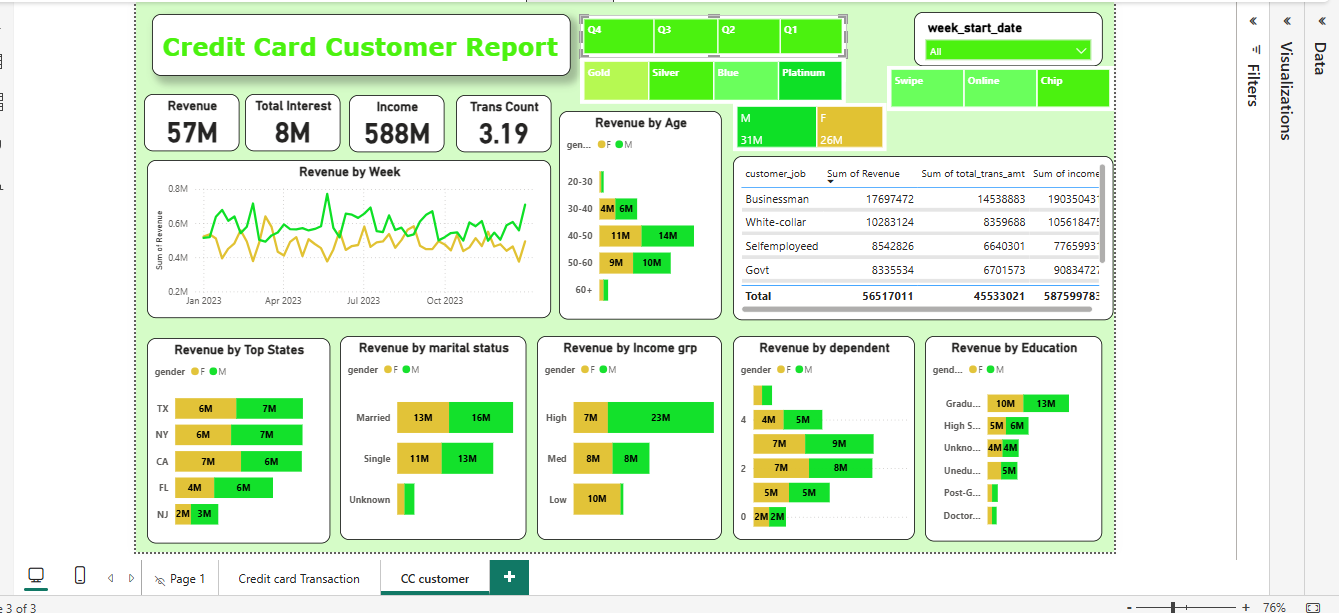

The dashboard page shown, as its layout file describes it:
{"tool":"powerbi","page":{"name":"CC customer","canvas":[1280,720],"ordinal":2},"visuals":[{"type":"textbox","box":[20.6,16.2,548.1,80.8],"z":0},{"type":"barChart","title":"Revenue by Income grp","fields":{"Y":["Sum(public cc_detail.Revenue)"],"Category":["public cust_detail.IncomeGroup"],"Series":["public cust_detail.gender"]},"box":[524.6,437.9,242.4,267.4],"z":1000},{"type":"tableEx","fields":{"Values":["public cust_detail.customer_job","Sum(public cc_detail.Revenue)","Sum(public cc_detail.total_trans_amt)","Sum(public cust_detail.income)"]},"box":[781.7,201.3,498.1,214.5],"z":2000},{"type":"card","title":"Revenue","fields":{"Values":["Sum(public cc_detail.Revenue)"]},"box":[10.3,120.5,124.9,74.9],"z":3000},{"type":"card","title":"Income","fields":{"Values":["Sum(public cust_detail.income)"]},"box":[279.2,122,124.9,74.9],"z":4000},{"type":"card","title":"Total Interest","fields":{"Values":["Sum(public cc_detail.interest_earned)"]},"box":[142.5,120.5,124.9,74.9],"z":5000},{"type":"card","title":"Trans Count","fields":{"Values":["Avg(public cust_detail.cust_satisfaction_score)"]},"box":[418.8,122,124.9,74.9],"z":6000},{"type":"treemap","fields":{"Group":["public cc_detail.qtr"],"Values":["Avg(public cc_detail.client_num)"]},"box":[581.9,17.6,348.2,55.8],"z":7000},{"type":"slicer","fields":{"Values":["public cc_detail.week_start_date"]},"box":[1018.3,13.2,246.9,70.5],"z":8000},{"type":"treemap","fields":{"Group":["public cc_detail.card_category"],"Values":["Avg(public cc_detail.client_num)"]},"box":[581.9,73.5,348.2,60.2],"z":9000},{"type":"lineChart","title":"Revenue by Week","fields":{"Y":["Sum(public cc_detail.Revenue)"],"Category":["public cc_detail.week_start_date.Variation.Date Hierarchy.Year","public cc_detail.week_start_date.Variation.Date Hierarchy.Quarter","public cc_detail.week_start_date.Variation.Date Hierarchy.Month","public cc_detail.week_start_date.Variation.Date Hierarchy.Day"],"Series":["public cust_detail.gender"]},"box":[14.7,207.2,529,207.2],"z":10000},{"type":"treemap","fields":{"Group":["public cust_detail.gender"],"Values":["Sum(public cc_detail.Revenue)"]},"box":[781.7,132.2,201.3,63.2],"z":11000},{"type":"barChart","title":"Revenue by Age","fields":{"Y":["Sum(public cc_detail.Revenue)"],"Category":["public cust_detail.Agegroup"],"Series":["public cust_detail.gender"]},"box":[554,142.5,213.1,273.3],"z":12000},{"type":"barChart","title":"Revenue by dependent","fields":{"Y":["Sum(public cc_detail.Revenue)"],"Category":["public cust_detail.dependent_count"],"Series":["public cust_detail.gender"]},"box":[781.7,437.9,238,267.4],"z":13000},{"type":"barChart","title":"Revenue by Education","fields":{"Y":["Sum(public cc_detail.Revenue)"],"Category":["public cust_detail.education_level"],"Series":["public cust_detail.gender"]},"box":[1033,437.9,232.2,268.9],"z":14000},{"type":"barChart","title":"Revenue by  Top States","fields":{"Y":["Sum(public cc_detail.Revenue)"],"Category":["public cust_detail.state_cd"],"Series":["public cust_detail.gender"]},"box":[14.7,439.3,239.5,268.9],"z":15000},{"type":"barChart","title":"Revenue by marital status","fields":{"Y":["Sum(public cc_detail.Revenue)"],"Category":["public cust_detail.marital_status","public cust_detail.dependent_count"],"Series":["public cust_detail.gender"]},"box":[267.4,437.9,243.9,267.4],"z":16000},{"type":"treemap","fields":{"Group":["public cc_detail.use_chip"],"Values":["Avg(public cc_detail.client_num)"]},"box":[983,83.8,296.8,58.8],"z":17000}]}

Visuals, with their boxes on the page's 1280x720 design canvas (x1, y1, x2, y2). These are canvas units, not pixel positions in the 1339x613 screenshot, which may show the page scaled, cropped or inside an application window:
textbox: (x1=21, y1=16, x2=569, y2=97)
"Revenue by Income grp" barChart: (x1=525, y1=438, x2=767, y2=705)
tableEx - public cust_detail.customer_job x Sum(public cc_detail.Revenue): (x1=782, y1=201, x2=1280, y2=416)
"Revenue" card: (x1=10, y1=120, x2=135, y2=195)
"Income" card: (x1=279, y1=122, x2=404, y2=197)
"Total Interest" card: (x1=142, y1=120, x2=267, y2=195)
"Trans Count" card: (x1=419, y1=122, x2=544, y2=197)
treemap - public cc_detail.qtr x Avg(public cc_detail.client_num): (x1=582, y1=18, x2=930, y2=73)
slicer - public cc_detail.week_start_date: (x1=1018, y1=13, x2=1265, y2=84)
treemap - public cc_detail.card_category x Avg(public cc_detail.client_num): (x1=582, y1=74, x2=930, y2=134)
"Revenue by Week" lineChart: (x1=15, y1=207, x2=544, y2=414)
treemap - public cust_detail.gender x Sum(public cc_detail.Revenue): (x1=782, y1=132, x2=983, y2=195)
"Revenue by Age" barChart: (x1=554, y1=142, x2=767, y2=416)
"Revenue by dependent" barChart: (x1=782, y1=438, x2=1020, y2=705)
"Revenue by Education" barChart: (x1=1033, y1=438, x2=1265, y2=707)
"Revenue by  Top States" barChart: (x1=15, y1=439, x2=254, y2=708)
"Revenue by marital status" barChart: (x1=267, y1=438, x2=511, y2=705)
treemap - public cc_detail.use_chip x Avg(public cc_detail.client_num): (x1=983, y1=84, x2=1280, y2=143)
